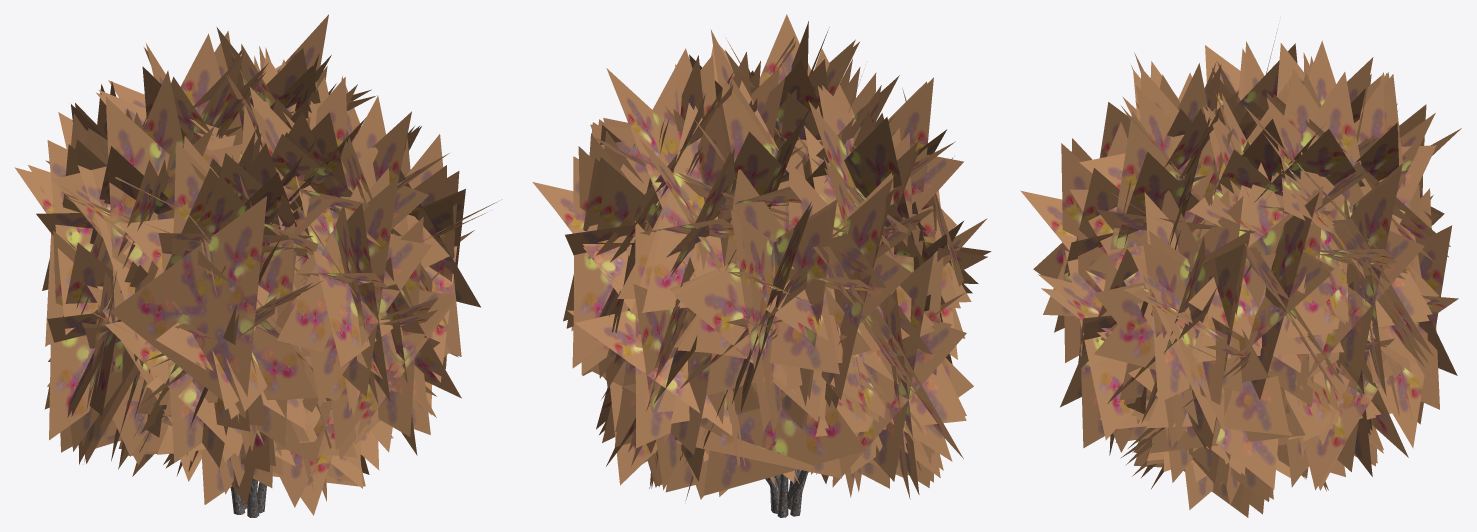
Rendered from Frangula_Alnus_Autumn_Young.glb.
3 views of the same model, side by side, from view 1: azimuth 30°, elevation 25°; view 2: azimuth 150°, elevation 25°; view 3: azimuth 270°, elevation 25° (orthographic). The views are drawn at different scales.
Visible parts, largest first — view 1: Frangula_Alnus_Autumn_Young__LOD3; view 2: Frangula_Alnus_Autumn_Young__LOD3; view 3: Frangula_Alnus_Autumn_Young__LOD3.
Part boxes in pixels (x1=…): Frangula_Alnus_Autumn_Young__LOD3: x1=14, y1=14, x2=502, y2=517; Frangula_Alnus_Autumn_Young__LOD3: x1=532, y1=14, x2=991, y2=517; Frangula_Alnus_Autumn_Young__LOD3: x1=1020, y1=29, x2=1461, y2=517.
Size of the model in its own units: 3.56 by 3.81 by 3.51.
2 materials, 2 textured.
